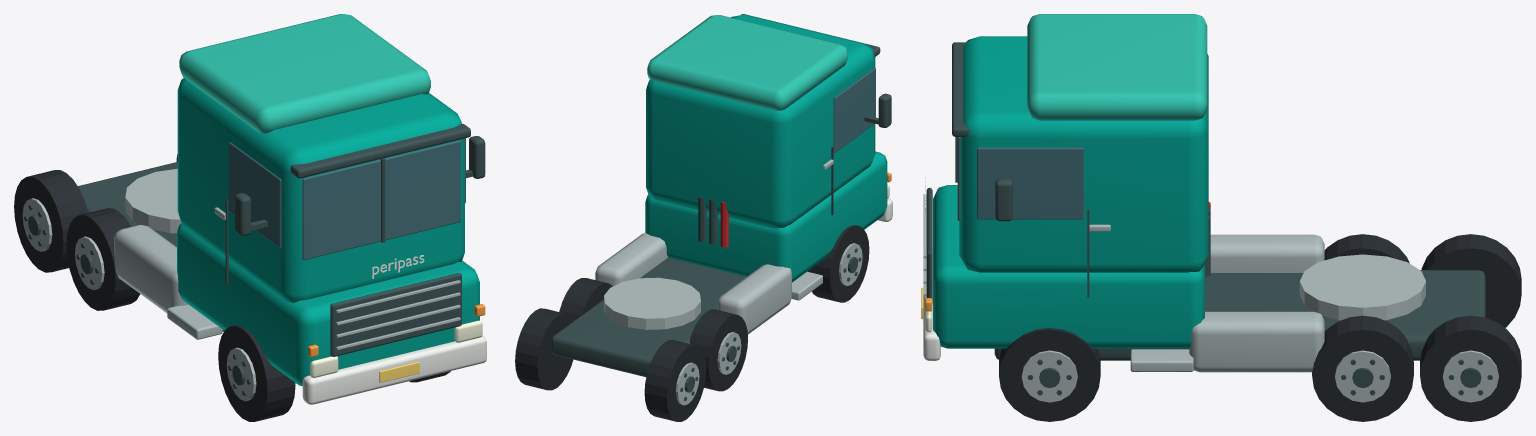
Rendered from tractor.glb.
3 renders of one model, left to right at view 1: azimuth 30°, elevation 25°; view 2: azimuth 150°, elevation 25°; view 3: azimuth 270°, elevation 25°, orthographic. The views are drawn at different scales.
Parts seen in each view (by area): view 1: Cab lower, Aero roof, Windshield, Ladder chassis, Grille slat, Bumper, Tire.001, Front wheel, Tire, Headlamp, Alloy hub, Alloy hub.001 (+2 smaller); view 2: Cab lower, Aero roof, Grille slat, Ladder chassis, Tire.003, Tire.001, Tire, Windshield, Front wheel, Tire.002, Alloy hub.001, Alloy hub.002 (+2 smaller); view 3: Cab lower, Grille slat, Aero roof, Ladder chassis, Windshield, Tire.003, Tire.002, Front wheel.001, Tire.001, Alloy hub.003, Alloy hub.005, Alloy hub.004 (+2 smaller).
Part boxes in pixels (x1=…): Cab lower: x1=177, y1=78, x2=479, y2=386; Aero roof: x1=179, y1=14, x2=430, y2=133; Windshield: x1=228, y1=138, x2=465, y2=260; Ladder chassis: x1=78, y1=123, x2=485, y2=383; Grille slat: x1=114, y1=168, x2=460, y2=349; Bumper: x1=302, y1=255, x2=486, y2=404; Tire.001: x1=14, y1=170, x2=87, y2=272; Front wheel: x1=218, y1=325, x2=295, y2=421; Tire: x1=66, y1=208, x2=140, y2=310; Headlamp: x1=310, y1=320, x2=482, y2=377; Alloy hub: x1=226, y1=347, x2=256, y2=401; Alloy hub.001: x1=75, y1=236, x2=104, y2=290; Cab lower: x1=645, y1=15, x2=887, y2=282; Aero roof: x1=647, y1=15, x2=847, y2=110; Grille slat: x1=595, y1=159, x2=833, y2=334; Ladder chassis: x1=552, y1=14, x2=891, y2=376; Tire.003: x1=515, y1=308, x2=573, y2=390; Tire.001: x1=644, y1=340, x2=706, y2=421; Tire: x1=689, y1=309, x2=747, y2=391; Windshield: x1=833, y1=68, x2=875, y2=152; Front wheel: x1=809, y1=225, x2=869, y2=302; Tire.002: x1=559, y1=278, x2=612, y2=320; Alloy hub.001: x1=717, y1=332, x2=741, y2=374; Alloy hub.002: x1=675, y1=362, x2=699, y2=405; Cab lower: x1=933, y1=36, x2=1208, y2=348; Grille slat: x1=923, y1=194, x2=1425, y2=372; Aero roof: x1=1027, y1=14, x2=1207, y2=120; Ladder chassis: x1=926, y1=42, x2=1485, y2=360; Windshield: x1=957, y1=137, x2=1083, y2=220; Tire.003: x1=1420, y1=315, x2=1521, y2=421; Tire.002: x1=1312, y1=315, x2=1413, y2=421; Front wheel.001: x1=999, y1=328, x2=1100, y2=421; Tire.001: x1=1421, y1=234, x2=1521, y2=327; Alloy hub.003: x1=1021, y1=350, x2=1077, y2=402; Alloy hub.005: x1=1442, y1=350, x2=1498, y2=402; Alloy hub.004: x1=1335, y1=350, x2=1390, y2=402.
Size of the model in its own units: 3.33 by 4.04 by 6.85.
